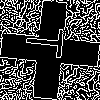T: (25, 25, 73, 60)
